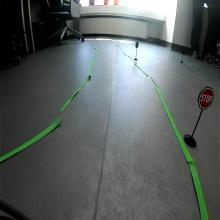stop: (198, 86, 215, 111)
